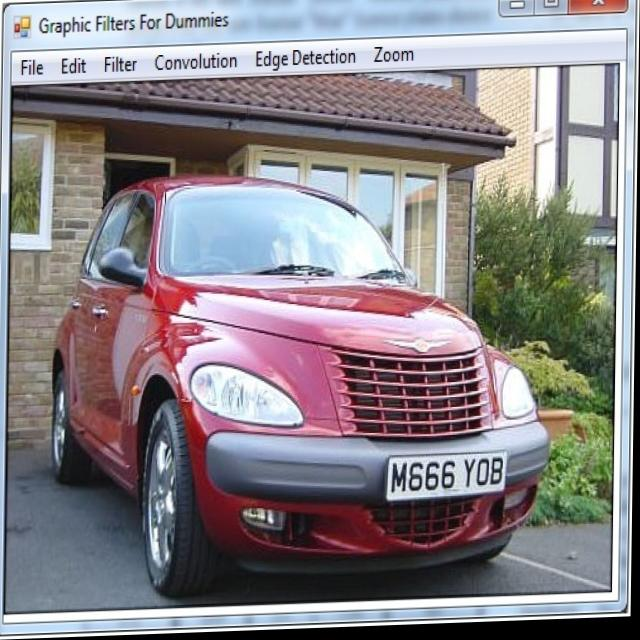licence: (391, 457, 507, 500)
